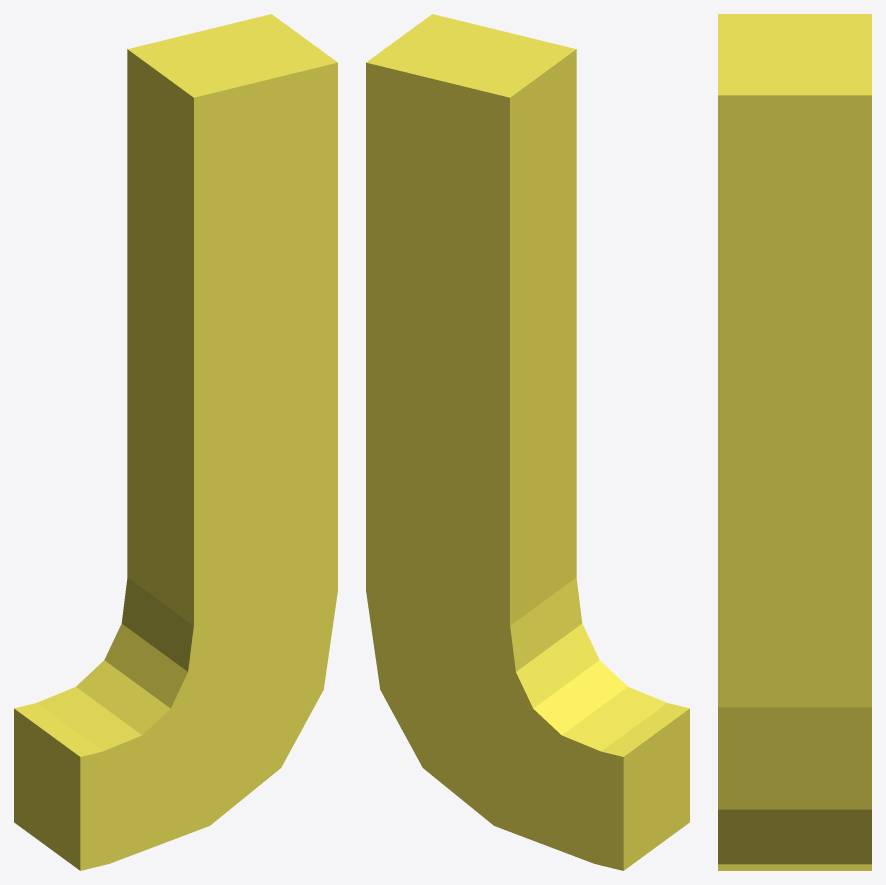
File: huruf_besar_j.glb
3 views of the same model, side by side, from view 1: azimuth 30°, elevation 25°; view 2: azimuth 150°, elevation 25°; view 3: azimuth 270°, elevation 25° (orthographic). The views are drawn at different scales.
Visible parts, largest first — view 1: geometry_0; view 2: geometry_0; view 3: geometry_0.
Boxes of the visible parts, x1,y1,x2,y2 form: geometry_0: (14, 14, 337, 870); geometry_0: (366, 14, 689, 870); geometry_0: (718, 14, 871, 870).
Bounding box in the file's own units: 3.36 × 9.29 × 1.5.
